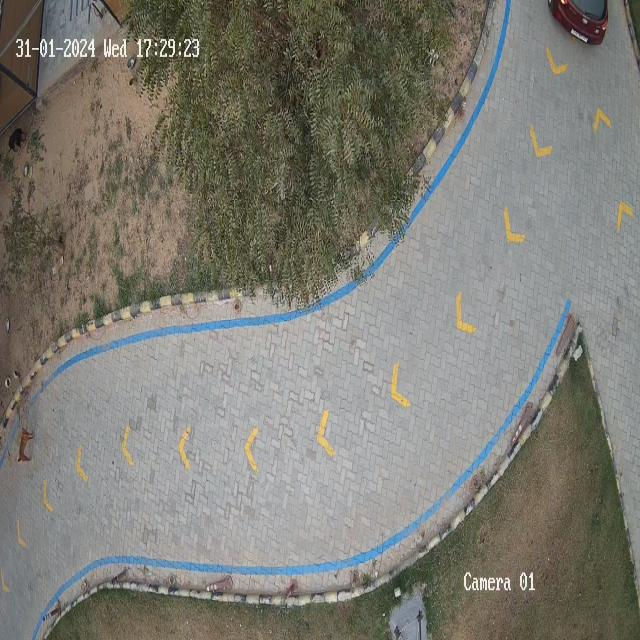car: (547, 0, 610, 44)
